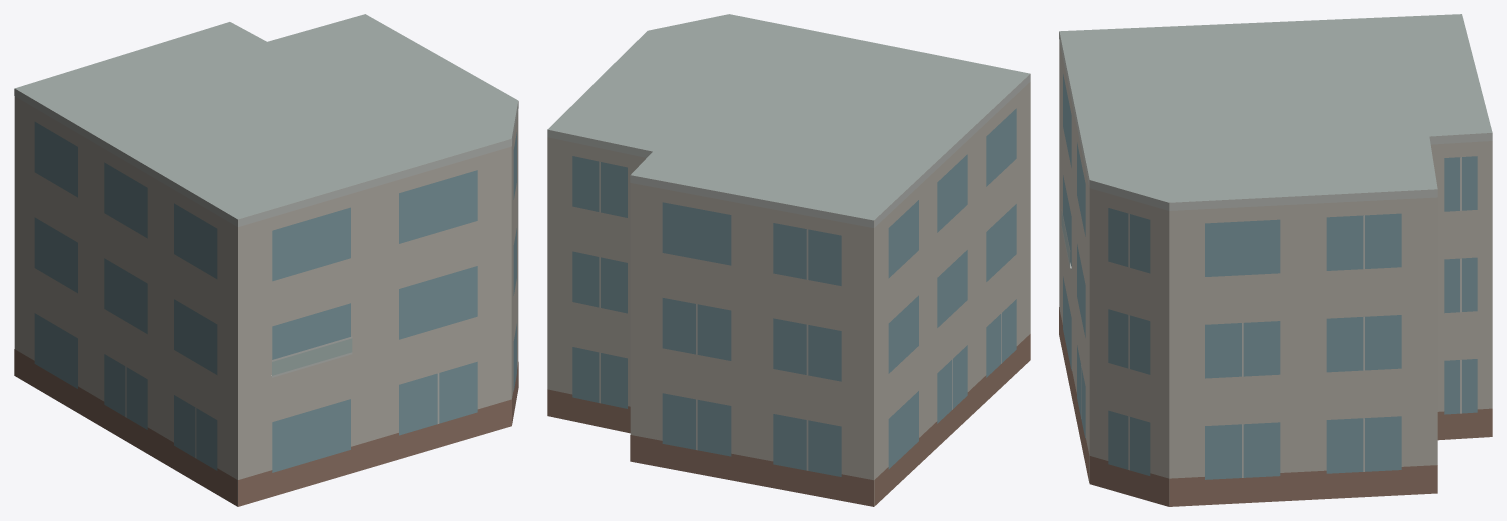
Rendered from survey-upis-32966654.glb.
3 renders of one model, left to right at view 1: azimuth 30°, elevation 25°; view 2: azimuth 150°, elevation 25°; view 3: azimuth 270°, elevation 25°, orthographic. The views are drawn at different scales.
Visible parts, largest first — view 1: survey-upis-32966654.tmp; view 2: survey-upis-32966654.tmp; view 3: survey-upis-32966654.tmp.
Part boxes in pixels (x1,y1,x2,y2): survey-upis-32966654.tmp: [14, 14, 518, 506]; survey-upis-32966654.tmp: [547, 14, 1030, 506]; survey-upis-32966654.tmp: [1059, 14, 1492, 506].
Bounding box in the file's own units: 12.12 × 9.1 × 11.76.
